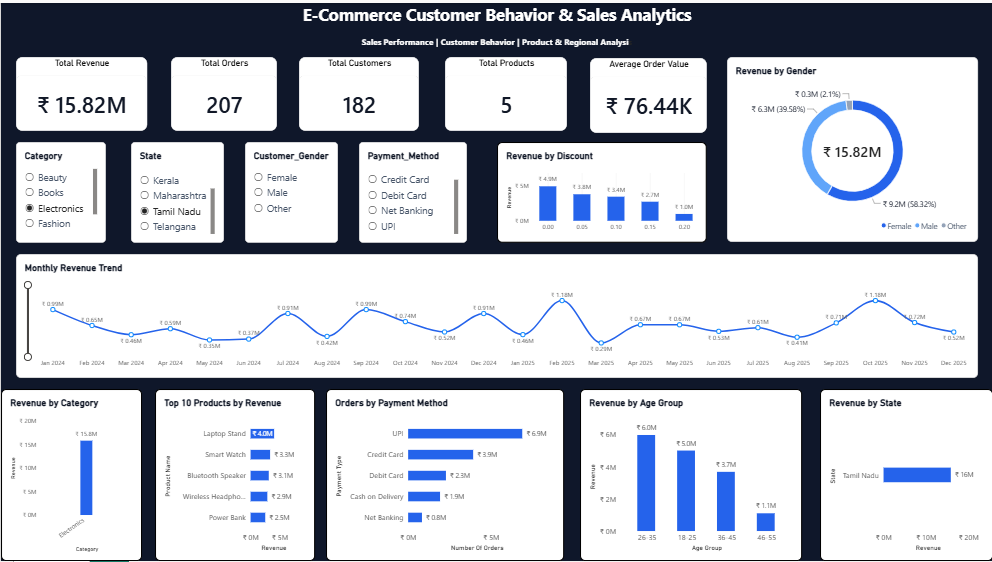

What the dashboard file says about the page in this screenshot:
{"tool":"powerbi","page":{"name":"Page 1","canvas":[1920,1080],"ordinal":0},"visuals":[{"type":"cardVisual","title":"Total Revenue","fields":{"Data":["Sum(ecommerce_db ecommerce_sales.Revenue)"]},"box":[29,104.5,253.5,143.2],"z":0},{"type":"cardVisual","title":"Total Orders","fields":{"Data":["CountNonNull(ecommerce_db ecommerce_sales.Order_ID)"]},"box":[329,104.5,205.2,143.2],"z":1000},{"type":"cardVisual","title":"Total Customers","fields":{"Data":["Count(ecommerce_db ecommerce_sales.Customer_ID)"]},"box":[576.8,104.5,232.3,143.2],"z":2000},{"type":"cardVisual","title":"Total Products","fields":{"Data":["Count(ecommerce_db ecommerce_sales.Product_Name)"]},"box":[859.4,104.5,236.1,143.2],"z":3000},{"type":"cardVisual","title":"Average Order Value","fields":{"Data":["Avg(ecommerce_db ecommerce_sales.Revenue)"]},"box":[1140,106.5,226.5,145.2],"z":4000},{"type":"lineChart","title":"Monthly Revenue Trend","fields":{"Category":["ecommerce_db ecommerce_sales.YearMonth"],"Y":["Sum(ecommerce_db ecommerce_sales.Revenue)"]},"box":[28.9,485.2,1862.4,240.2],"z":5000},{"type":"clusteredColumnChart","title":"Revenue by Category","fields":{"Category":["ecommerce_db ecommerce_sales.Category"],"Y":["Sum(ecommerce_db ecommerce_sales.Revenue)"]},"box":[0,746.9,272.9,332.9],"z":6000},{"type":"barChart","title":"Orders by Payment Method","fields":{"Category":["ecommerce_db ecommerce_sales.Payment_Method"],"Y":["Sum(ecommerce_db ecommerce_sales.Revenue)"]},"box":[629,746.9,460.6,332.9],"z":7000},{"type":"barChart","title":"Top 10 Products by Revenue","fields":{"Category":["ecommerce_db ecommerce_sales.Product_Name"],"Y":["Sum(ecommerce_db ecommerce_sales.Revenue)"]},"box":[297.7,746.9,309.7,332.9],"z":8000},{"type":"columnChart","title":"Revenue by Age Group","fields":{"Category":["ecommerce_db ecommerce_sales.Age_Group"],"Y":["Sum(ecommerce_db ecommerce_sales.Revenue)"]},"box":[1120.6,746.9,429.7,332.9],"z":9000},{"type":"listSlicer","fields":{"Values":["ecommerce_db ecommerce_sales.Category"]},"box":[29,269,174.2,195.5],"z":10000},{"type":"listSlicer","fields":{"Values":["ecommerce_db ecommerce_sales.State"]},"box":[251.6,269,180,195.5],"z":11000},{"type":"listSlicer","fields":{"Values":["ecommerce_db ecommerce_sales.Customer_Gender"]},"box":[472.3,269,180,195.5],"z":12000},{"type":"listSlicer","fields":{"Values":["ecommerce_db ecommerce_sales.Payment_Method"]},"box":[692.9,269,209,195.5],"z":13000},{"type":"barChart","title":"Revenue by State","fields":{"Category":["ecommerce_db ecommerce_sales.State"],"Y":["Sum(ecommerce_db ecommerce_sales.Revenue)"]},"box":[1585.2,746.9,334.8,332.9],"z":14000},{"type":"textbox","box":[0,0,1920,63.9],"z":15000},{"type":"textbox","box":[0,63.9,1920,40.6],"z":16000},{"type":"donutChart","title":"Revenue by  Gender","fields":{"Category":["ecommerce_db ecommerce_sales.Customer_Gender"],"Y":["Sum(ecommerce_db ecommerce_sales.Revenue)"]},"box":[1405.2,104.5,485.8,358.1],"z":17000},{"type":"clusteredColumnChart","title":"Revenue by Discount","fields":{"Category":["ecommerce_db ecommerce_sales.Discount"],"Y":["Sum(ecommerce_db ecommerce_sales.Revenue)"]},"box":[960,269,406.5,195.5],"z":18000}]}

Visuals, with their boxes in screenshot pixels (x1, y1, x2, y2), scaled from the page's 1920x1080 canvas onto the 992x562 screenshot:
"Total Revenue" cardVisual: (left=15, top=54, right=146, bottom=129)
"Total Orders" cardVisual: (left=170, top=54, right=276, bottom=129)
"Total Customers" cardVisual: (left=298, top=54, right=418, bottom=129)
"Total Products" cardVisual: (left=444, top=54, right=566, bottom=129)
"Average Order Value" cardVisual: (left=589, top=55, right=706, bottom=131)
"Monthly Revenue Trend" lineChart: (left=15, top=252, right=977, bottom=377)
"Revenue by Category" clusteredColumnChart: (left=0, top=389, right=141, bottom=561)
"Orders by Payment Method" barChart: (left=325, top=389, right=563, bottom=561)
"Top 10 Products by Revenue" barChart: (left=154, top=389, right=314, bottom=561)
"Revenue by Age Group" columnChart: (left=579, top=389, right=801, bottom=561)
listSlicer - ecommerce_db ecommerce_sales.Category: (left=15, top=140, right=105, bottom=242)
listSlicer - ecommerce_db ecommerce_sales.State: (left=130, top=140, right=223, bottom=242)
listSlicer - ecommerce_db ecommerce_sales.Customer_Gender: (left=244, top=140, right=337, bottom=242)
listSlicer - ecommerce_db ecommerce_sales.Payment_Method: (left=358, top=140, right=466, bottom=242)
"Revenue by State" barChart: (left=819, top=389, right=991, bottom=561)
textbox: (left=0, top=0, right=991, bottom=33)
textbox: (left=0, top=33, right=991, bottom=54)
"Revenue by  Gender" donutChart: (left=726, top=54, right=977, bottom=241)
"Revenue by Discount" clusteredColumnChart: (left=496, top=140, right=706, bottom=242)
